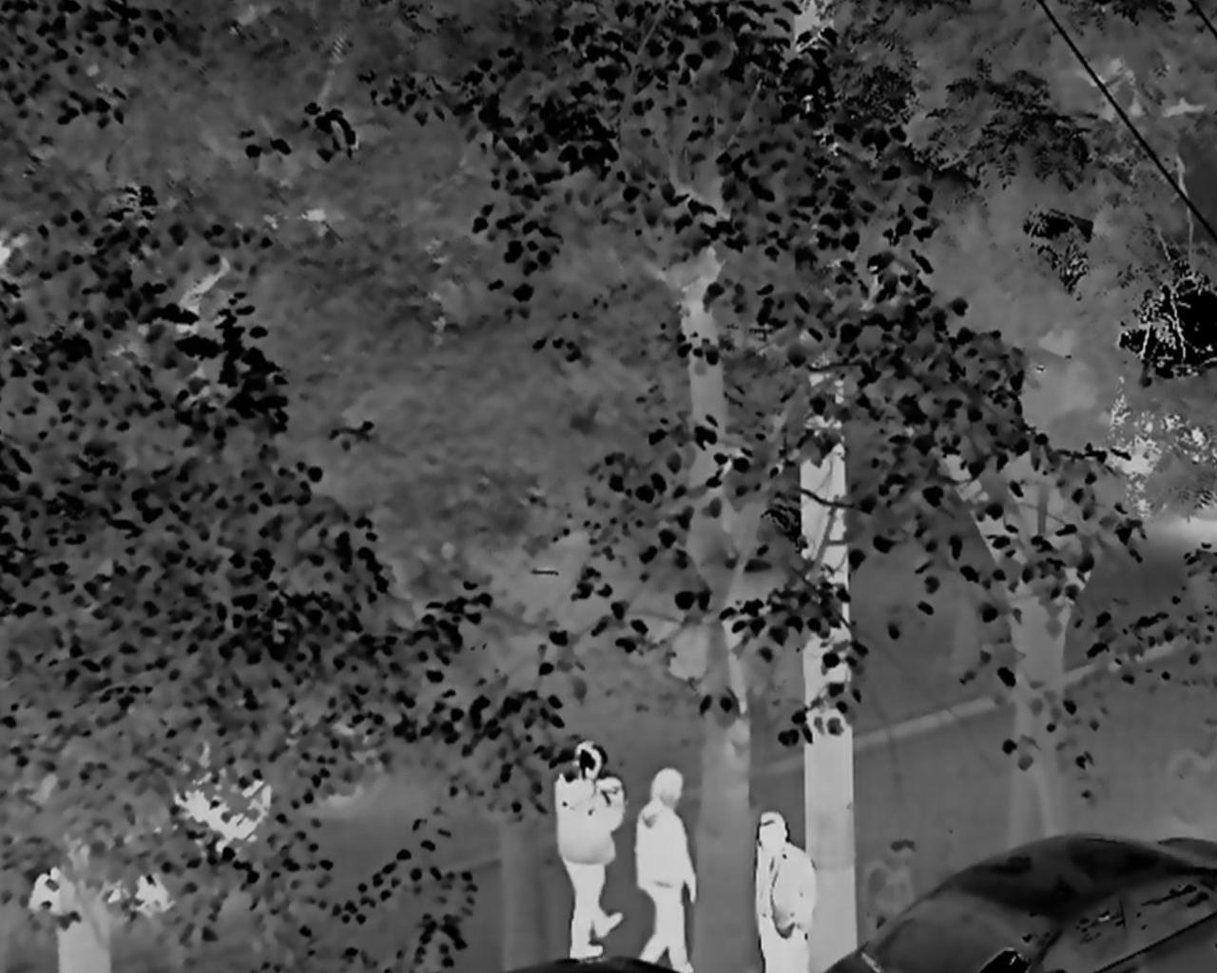person: (554, 744, 626, 968), (633, 765, 694, 973), (754, 811, 814, 973)
